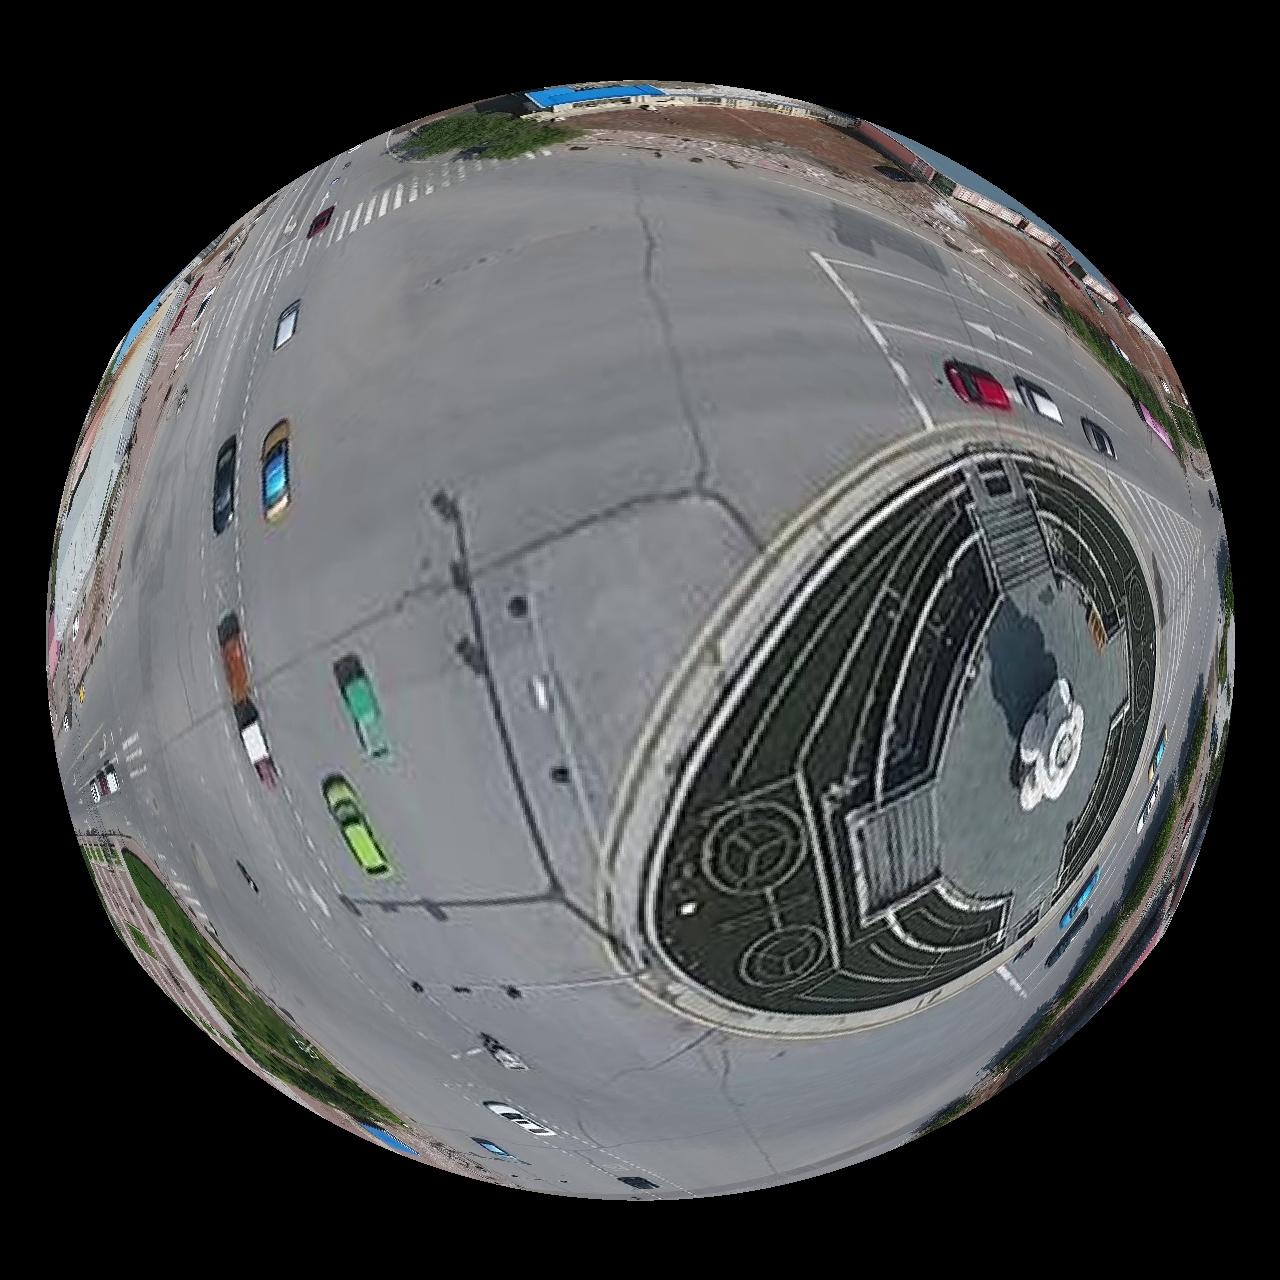cars: (216, 613, 277, 789), (322, 777, 389, 876), (334, 658, 390, 758), (946, 360, 1014, 410), (261, 420, 290, 518), (483, 1103, 557, 1139), (211, 436, 236, 533), (1016, 377, 1065, 422), (272, 299, 300, 348), (1084, 417, 1117, 457), (87, 763, 118, 803), (306, 204, 334, 238)
trees: (395, 110, 583, 158)
